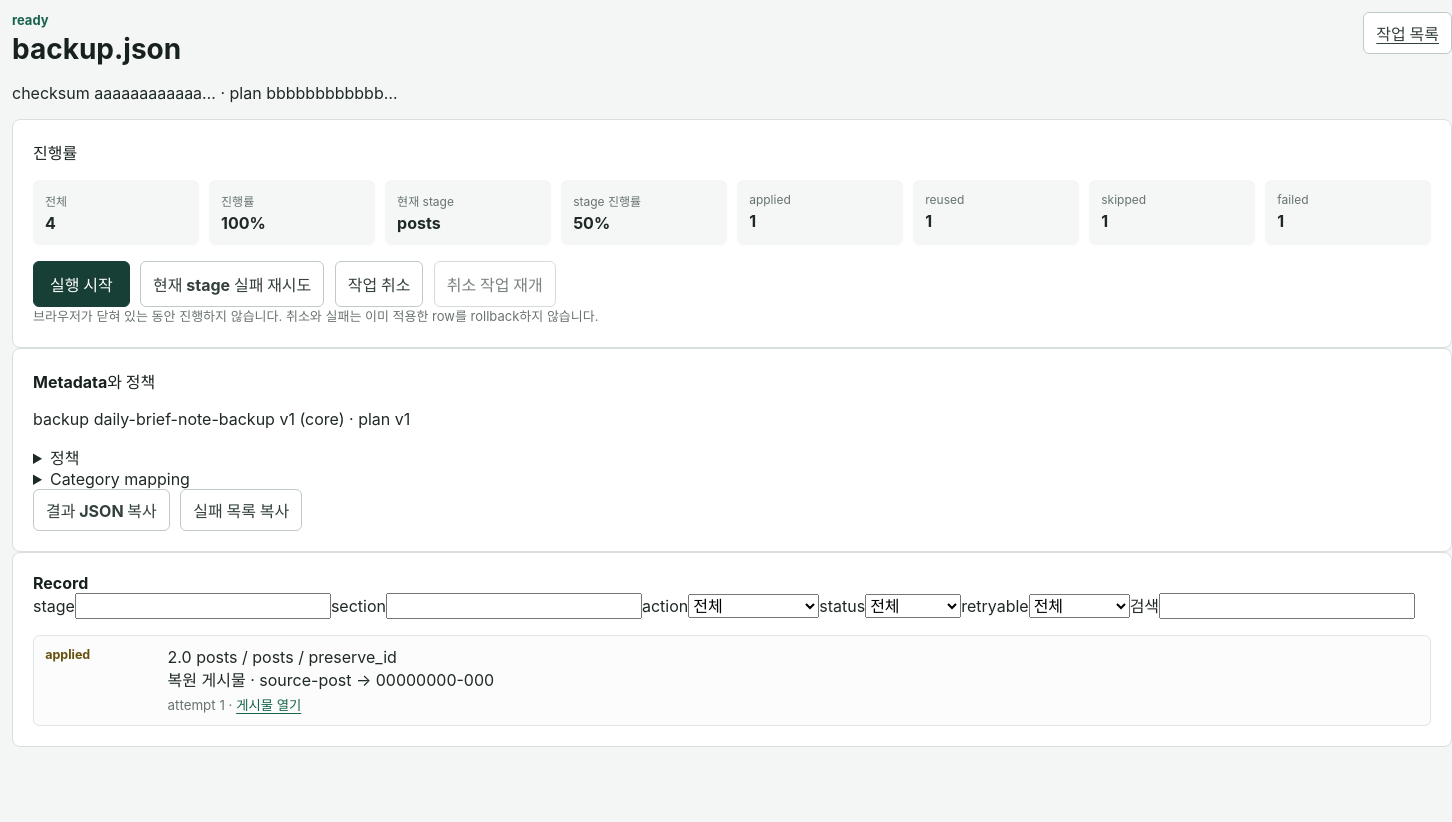
BackupRestoreJobDetailPage › job metadata와 정책을 표시한다
The width and height of the screenshot is (1452, 822).
Expected: the text "backup daily-brief-note-backup v1 (core) · plan v1" is shown, [33,408,410,428]
Click the heading "정책": click(65, 458) [50,448,79,468]
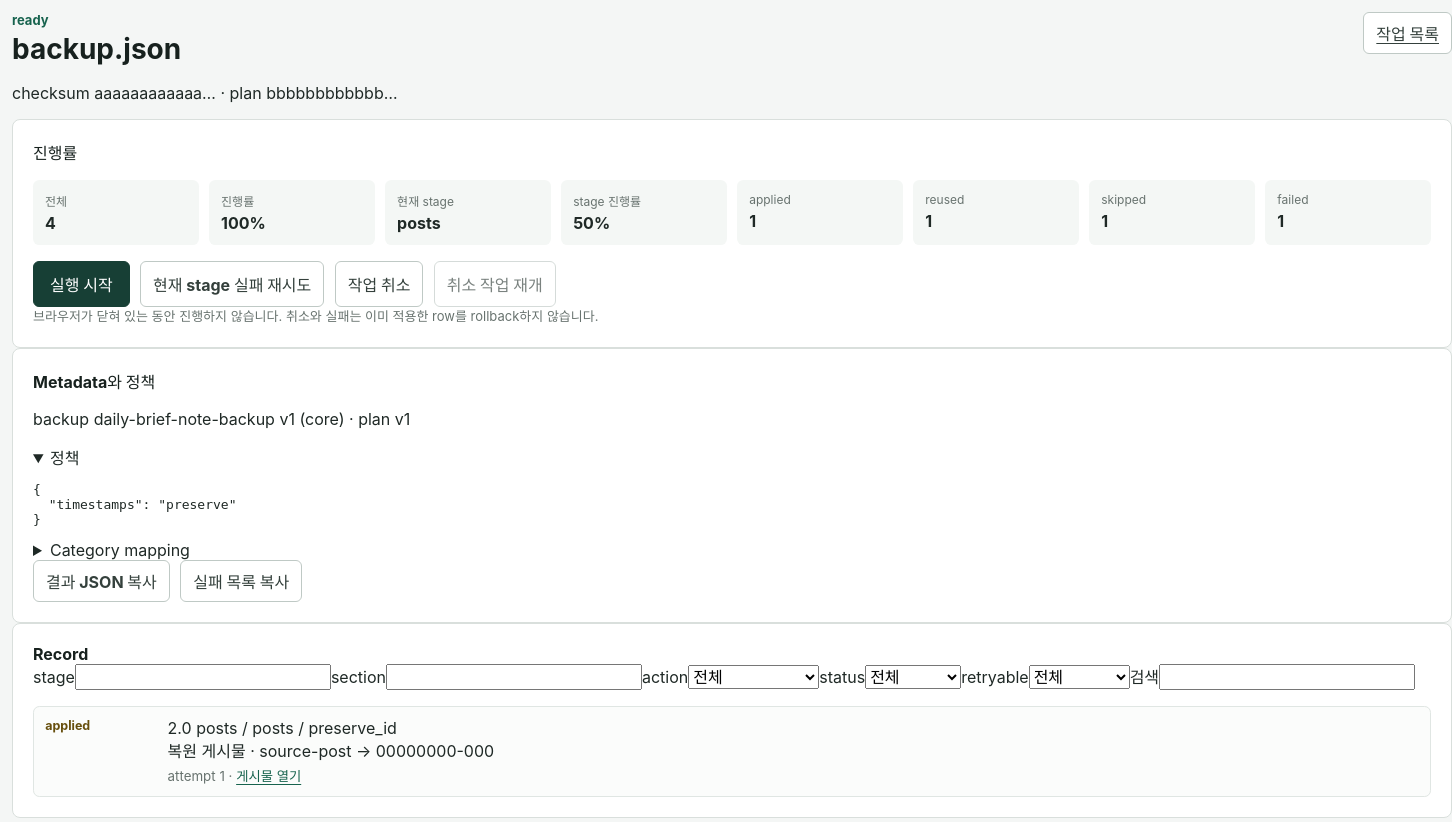
Result: the text "{ \"timestamps\": \"preserve\" }" is shown at [33,482,236,526]
